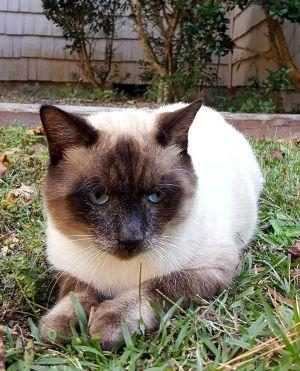siamese: (22, 83, 220, 273)
